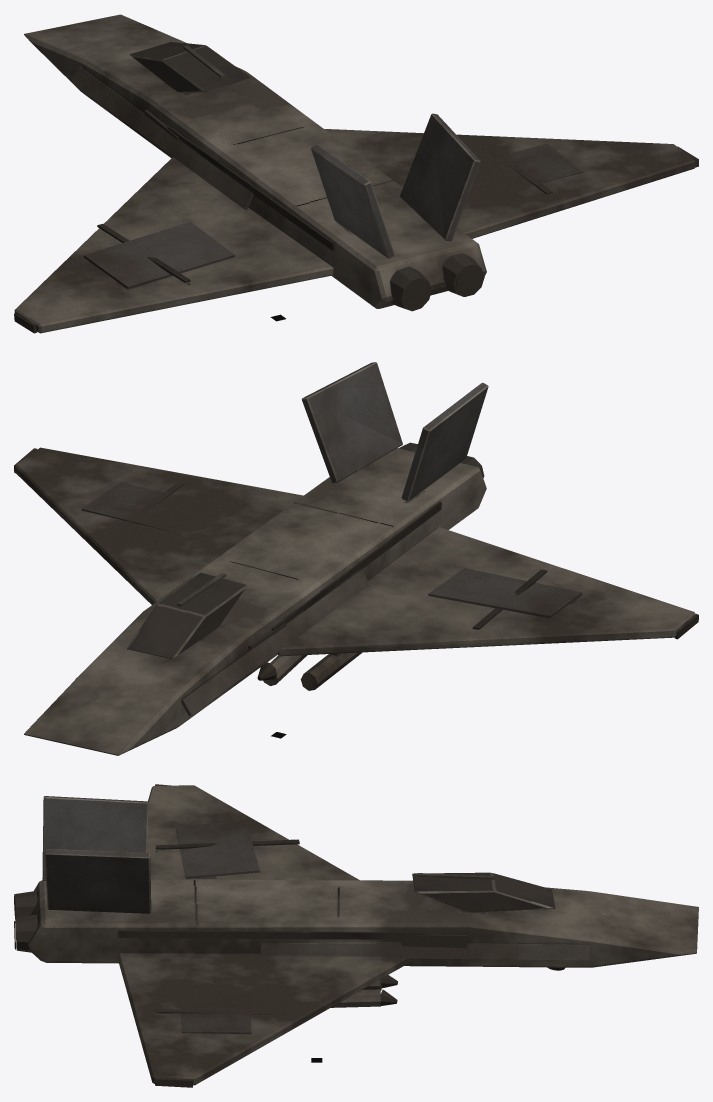
Rendered from ord_archon_wreck.fbx.
3 renders of one model, top to bottom at view 1: azimuth 30°, elevation 25°; view 2: azimuth 150°, elevation 25°; view 3: azimuth 270°, elevation 25°, orthographic. The views are drawn at different scales.
Visible parts, largest first — view 1: base_bar; view 2: base_bar, pylon_bar; view 3: base_bar, pylon_bar.
Part boxes in pixels (x1,y1,x2,y2): base_bar: (14, 14, 698, 333); base_bar: (14, 362, 698, 755); pylon_bar: (257, 652, 362, 690); base_bar: (14, 784, 698, 1087); pylon_bar: (331, 975, 397, 1007).
Bounding box in the file's own units: 1293 × 480 × 1252.
2 materials, 2 textured.
